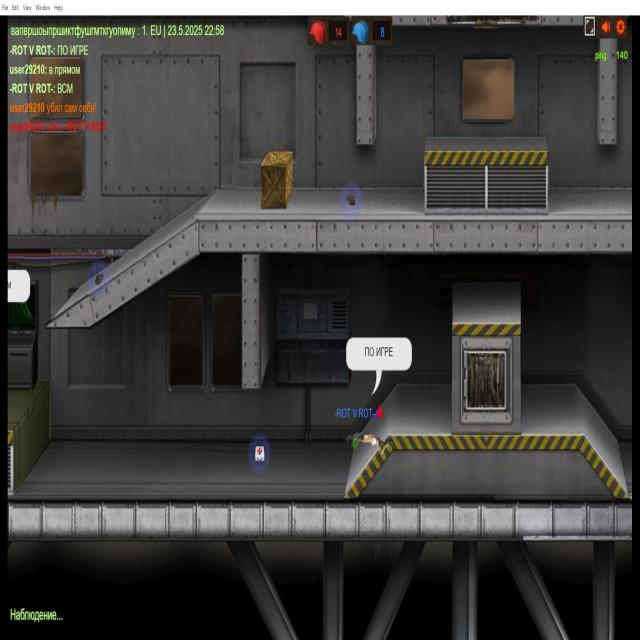enemy: (356, 433, 392, 454)
